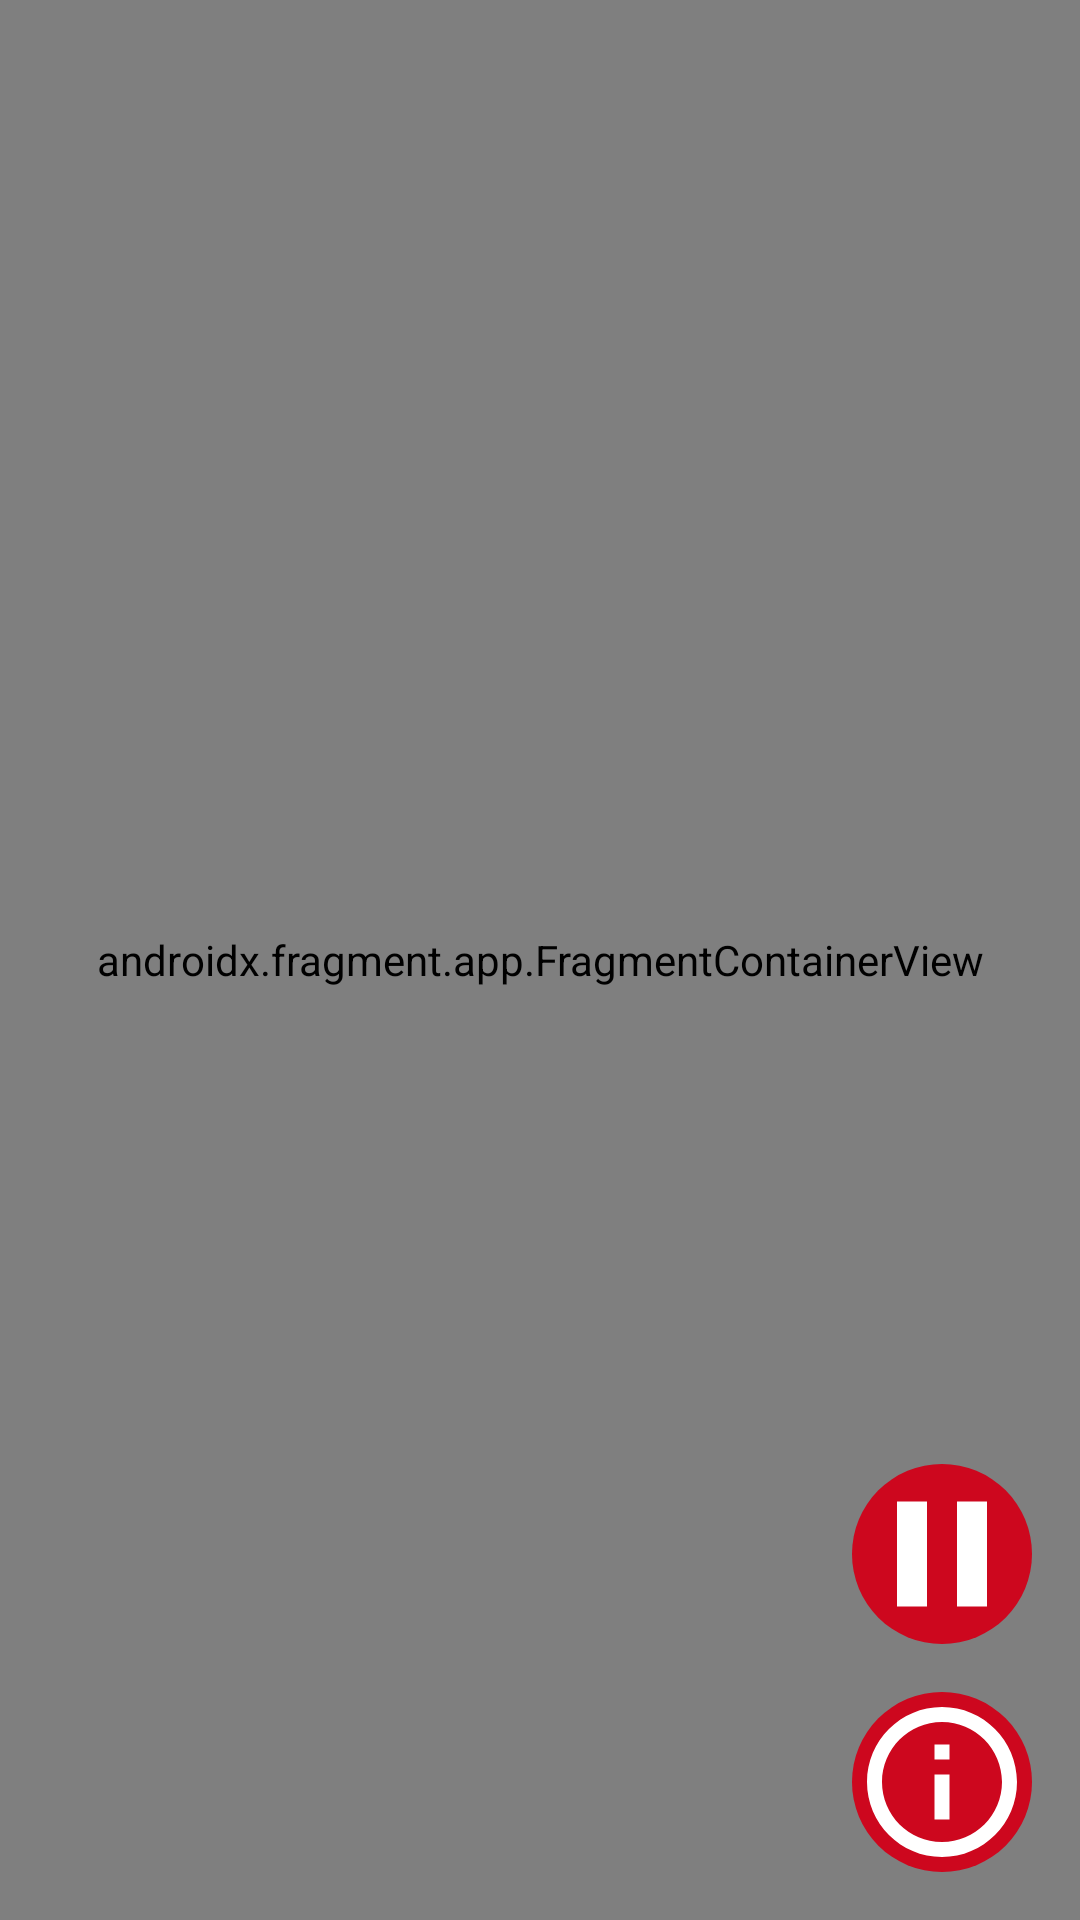

Point at icon controls on the screen. Image size 1080px×1920px, points as (x=x, y=y).
Pause current action: (x=942, y=1554)
View info pop up: (x=942, y=1782)
